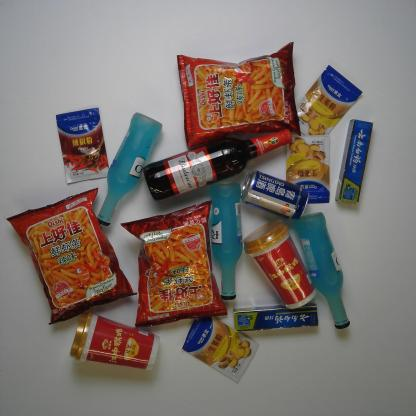Alcohol: (142, 124, 294, 202), (94, 111, 163, 226), (293, 210, 351, 331), (209, 180, 245, 302), (238, 169, 310, 219)
Instant Drink: (242, 218, 316, 312), (67, 310, 161, 373)
Personal Hygiene: (334, 118, 375, 206), (232, 302, 320, 334)
Puffed Food: (7, 187, 138, 326), (120, 199, 228, 330), (176, 40, 303, 150)
Seasoner: (182, 315, 260, 384), (295, 64, 363, 137), (55, 107, 110, 184), (284, 134, 331, 204)
